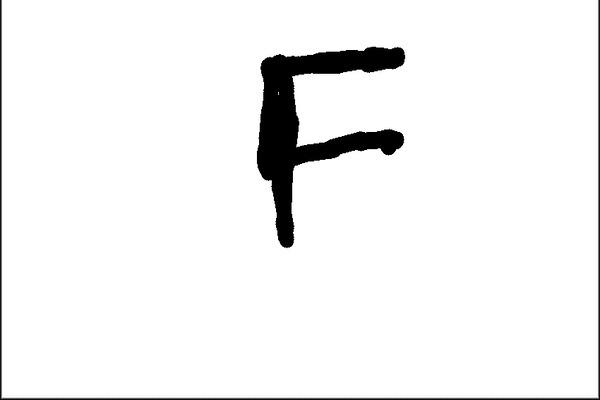F: (250, 43, 410, 250)
